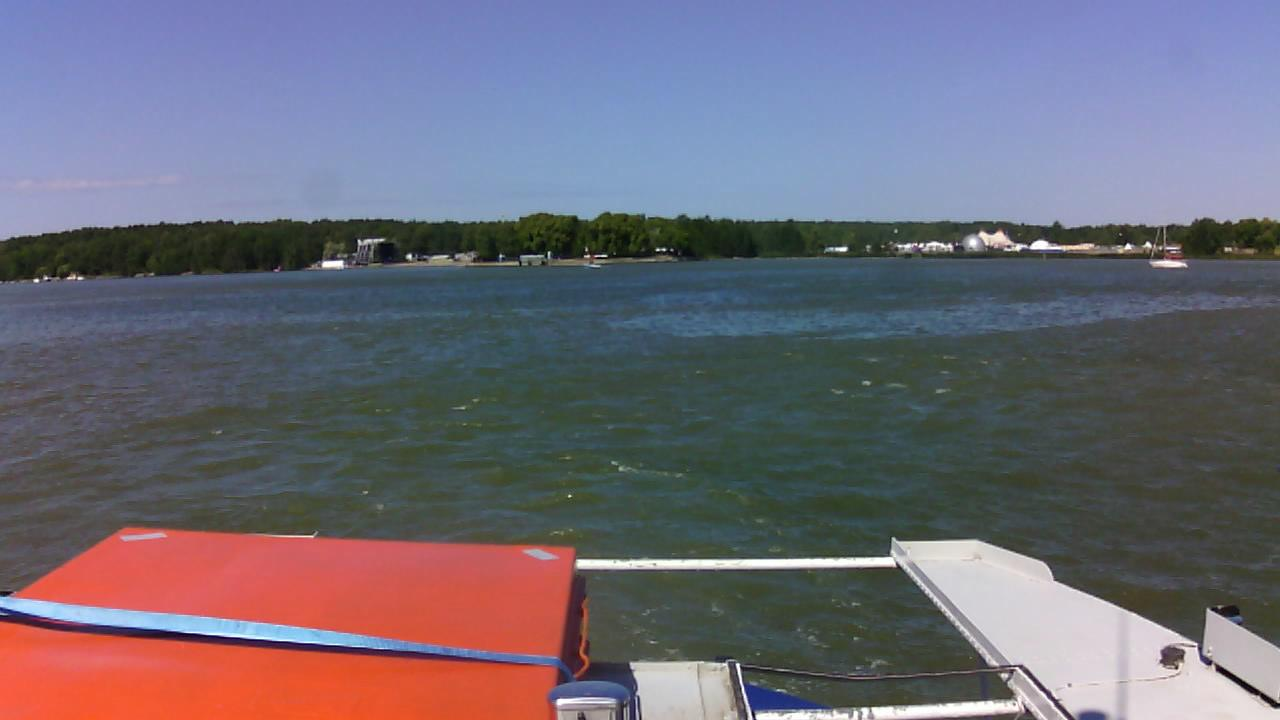Ship: (1153, 227, 1192, 269)
